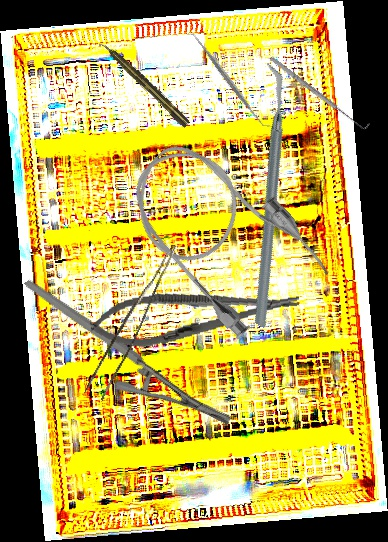Cannula: (108, 116, 338, 350)
Chopper: (157, 61, 376, 329)
Handpiece: (97, 38, 192, 129)
Hook Surgical: (267, 51, 372, 134)
Needle Holder: (24, 231, 233, 472), (87, 276, 303, 354)
Spatula Surgical: (186, 27, 272, 134)
Tissue Forceps: (84, 236, 177, 403)
